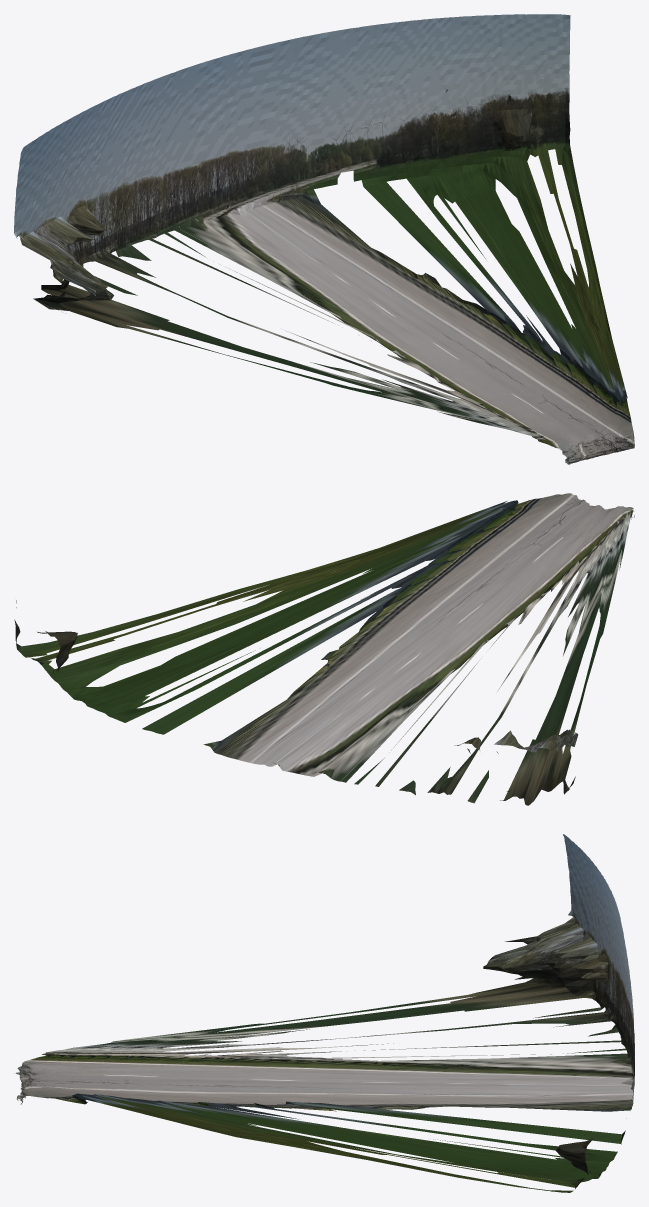
3 renders of one model, top to bottom at view 1: azimuth 30°, elevation 25°; view 2: azimuth 150°, elevation 25°; view 3: azimuth 270°, elevation 25°, orthographic. The views are drawn at different scales.
Parts seen in each view (by area): view 1: defaultobject; view 2: defaultobject; view 3: defaultobject.
Part boxes in pixels (left/top/right/bottom): defaultobject: left=14, top=14, right=634, bottom=464; defaultobject: left=14, top=493, right=634, bottom=805; defaultobject: left=14, top=834, right=634, bottom=1192.
Size of the model in its own units: 41.08 by 12.06 by 44.51.
Materials: 1 (1 with a texture image).
